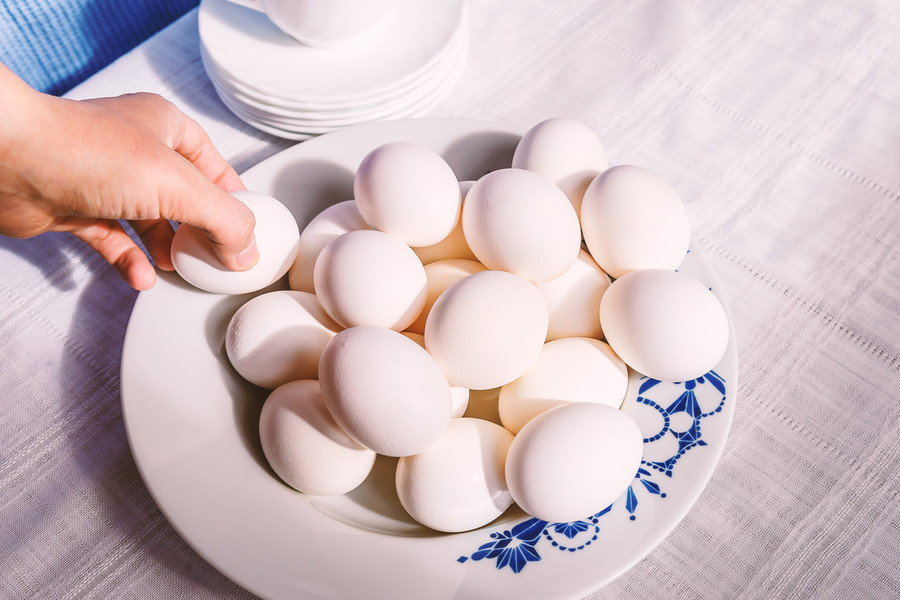Egg: (501, 398, 650, 529)
